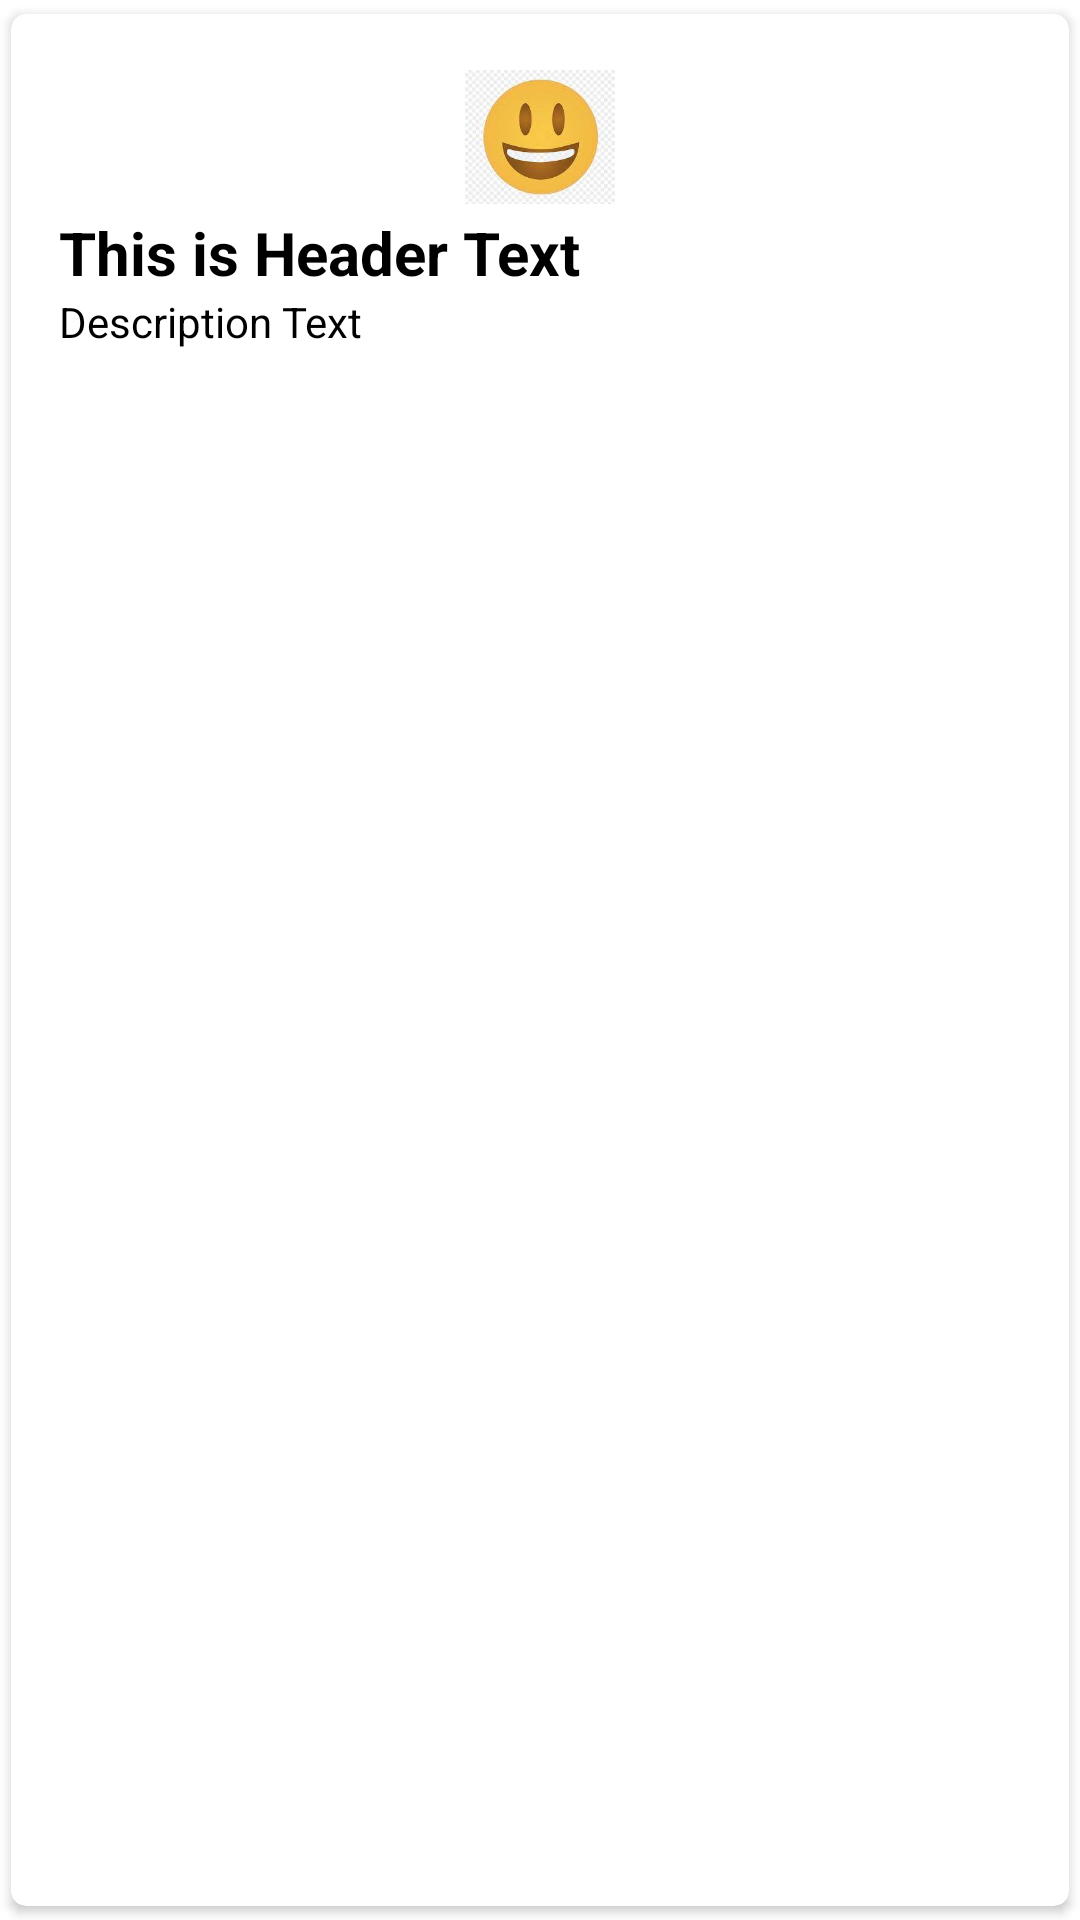

Where to tap for icons on this 1080x1920 app screen, as point (x, y):
smiely: point (538, 137)
